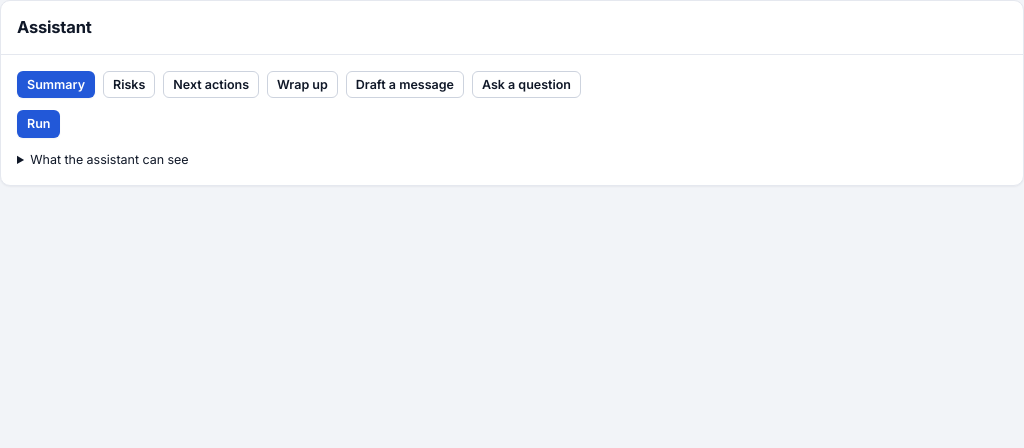
AssistPanel › shows the grounding level and its reason, not a bare number
The width and height of the screenshot is (1024, 448).
Step 1. Click the button "Run" → (39, 124), box [17,110,60,138]
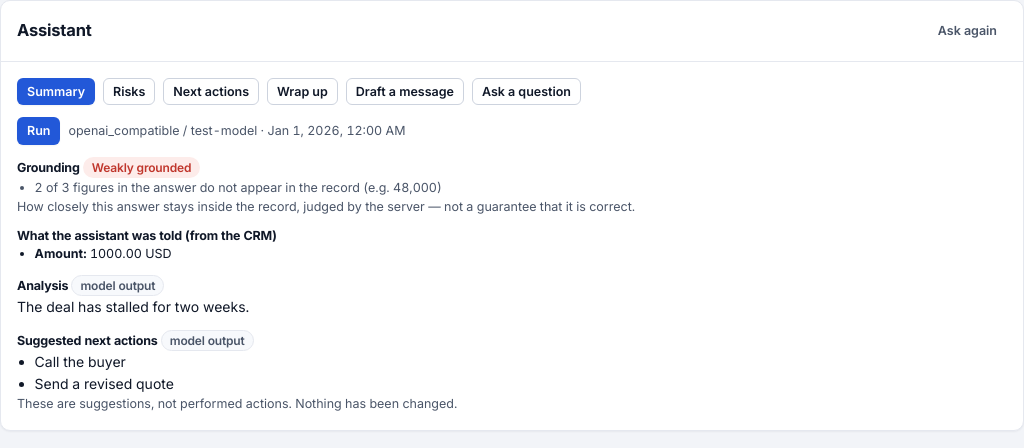
Check: the text "Weakly grounded" is shown, box [83,156,200,178]
Check: the list item "do not appear in the record" is shown, box [35,180,442,194]
